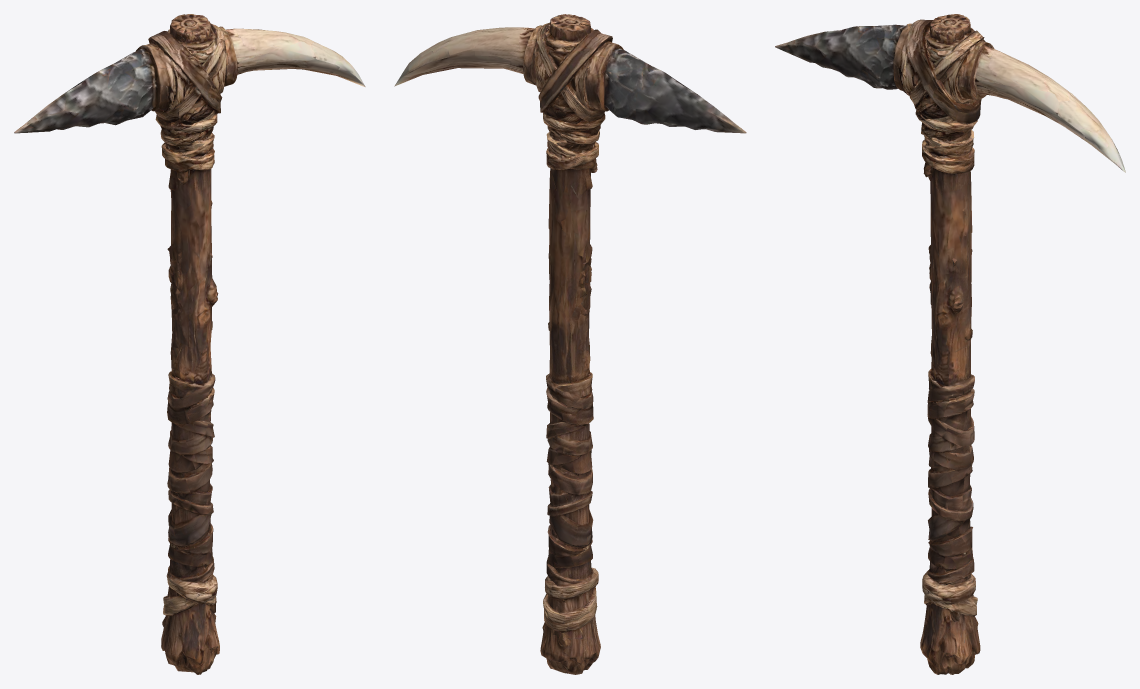
The model's file is w-pick.glb.
The picture shows the model from 3 angles, left to right: view 1: azimuth 30°, elevation 25°; view 2: azimuth 150°, elevation 25°; view 3: azimuth 330°, elevation 25°; orthographic projection.
Visible parts, largest first — view 1: Mesh_0; view 2: Mesh_0; view 3: Mesh_0.
Part boxes in pixels (box(x1,y1,x2,y2)): Mesh_0: box(14, 14, 365, 674); Mesh_0: box(394, 14, 746, 674); Mesh_0: box(775, 14, 1125, 674).
Size of the model in its own units: 1.08 by 1.9 by 0.1932.
Materials: 1 (1 with a texture image).
